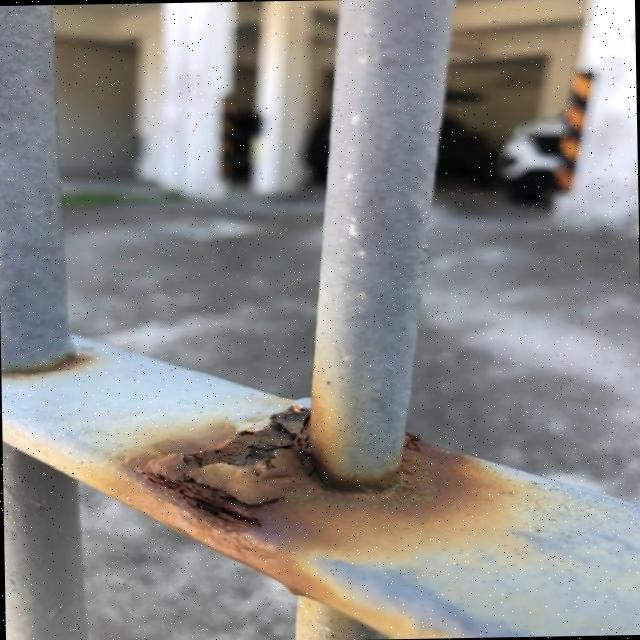Corrosion: (132, 398, 518, 564)
